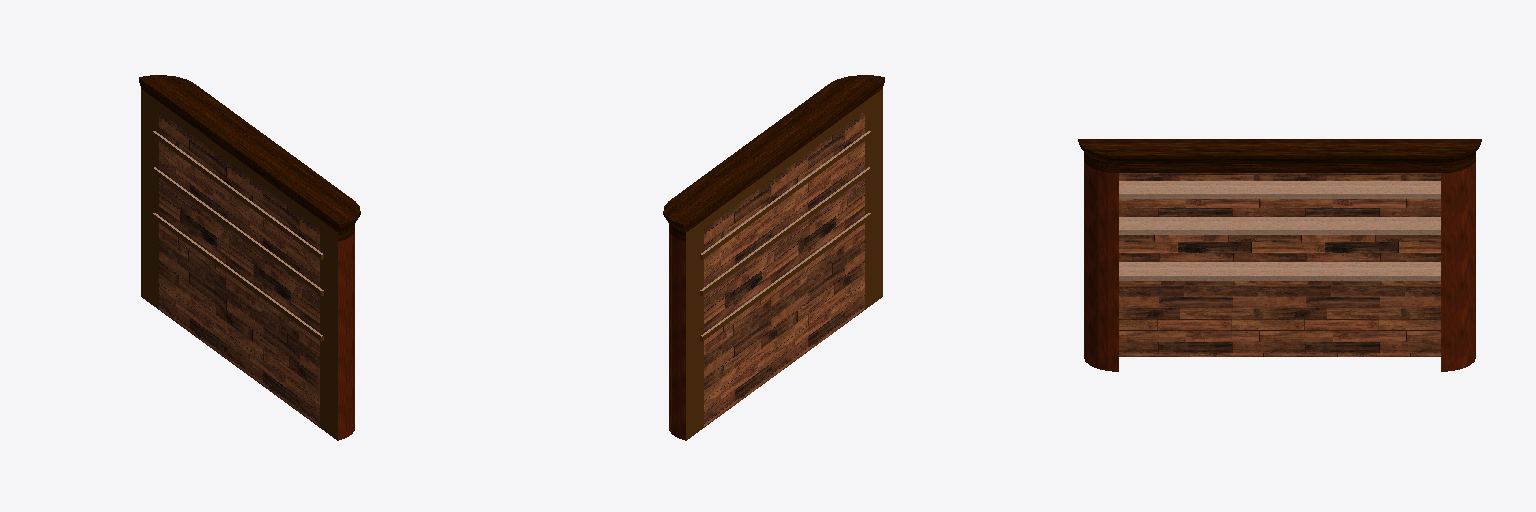
3 renders of one model, left to right at view 1: azimuth 30°, elevation 25°; view 2: azimuth 150°, elevation 25°; view 3: azimuth 270°, elevation 25°, orthographic.
Size of the model in its own units: 2.45 by 13.47 by 22.59.
1 materials, 1 textured.